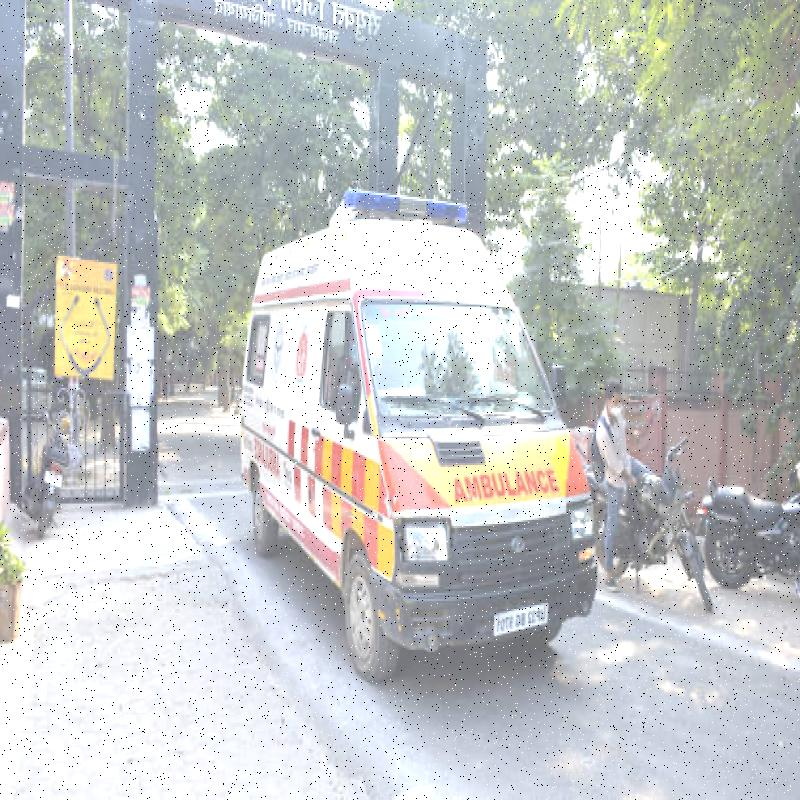ambulance: (203, 175, 628, 644)
